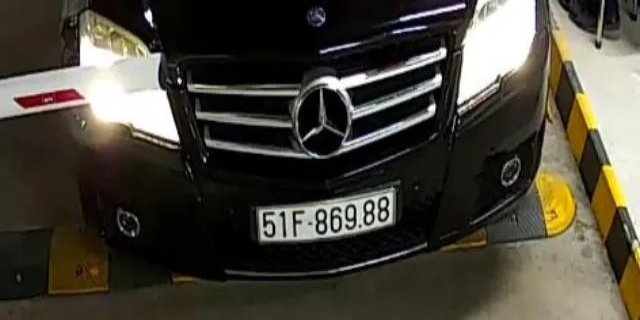bien_so: (260, 196, 395, 237)
